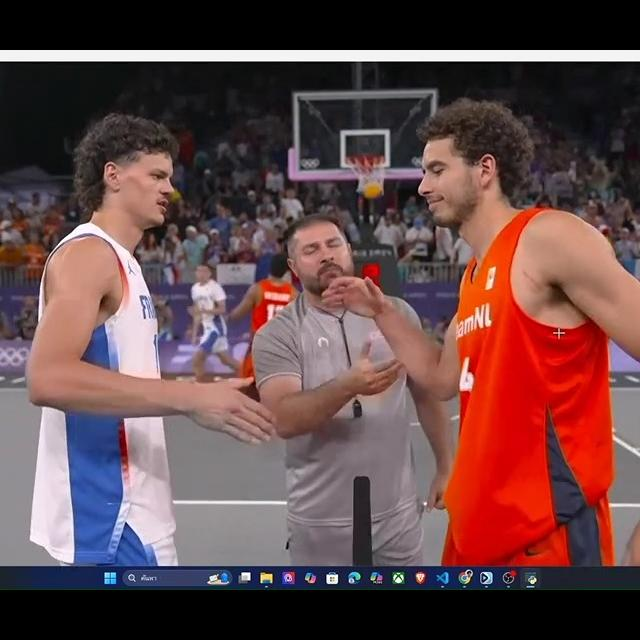basketball: (362, 184, 383, 201)
hoop: (346, 152, 388, 179)
